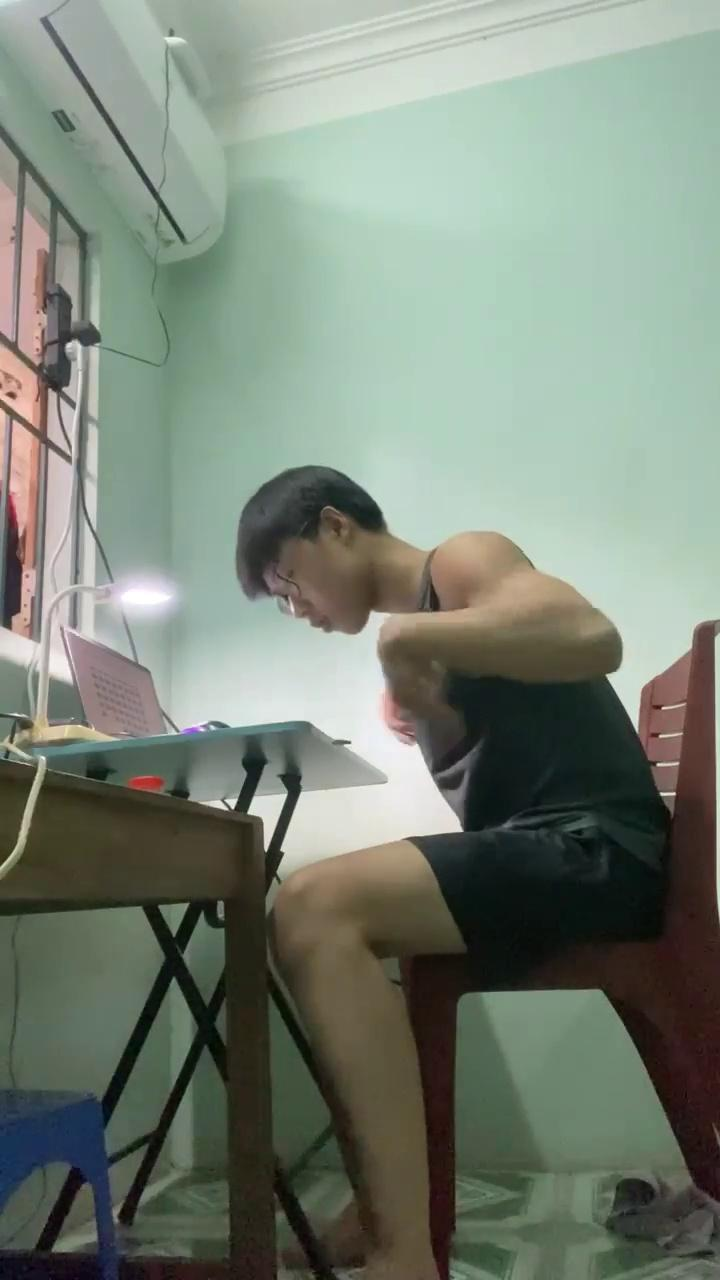BadPosture: (236, 464, 669, 1279)
